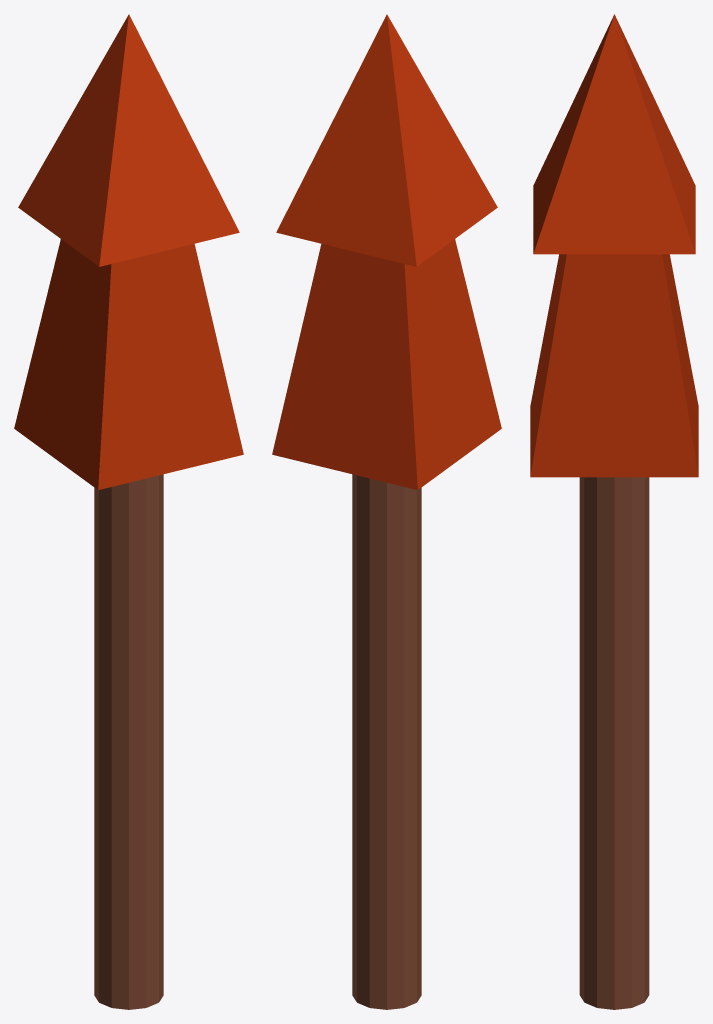
Rendered from Tree_16_summer_red_mat.fbx.
3 renders of one model, left to right at view 1: azimuth 30°, elevation 25°; view 2: azimuth 150°, elevation 25°; view 3: azimuth 270°, elevation 25°, orthographic.
Parts seen in each view (by area): view 1: Tree_16_summer_red_mat; view 2: Tree_16_summer_red_mat; view 3: Tree_16_summer_red_mat.
Part boxes in pixels (box(x1,y1,x2,y2)): Tree_16_summer_red_mat: box(14, 14, 243, 1009); Tree_16_summer_red_mat: box(272, 14, 501, 1009); Tree_16_summer_red_mat: box(530, 14, 698, 1009).
Size of the model in its own units: 53.67 by 345 by 53.67.
